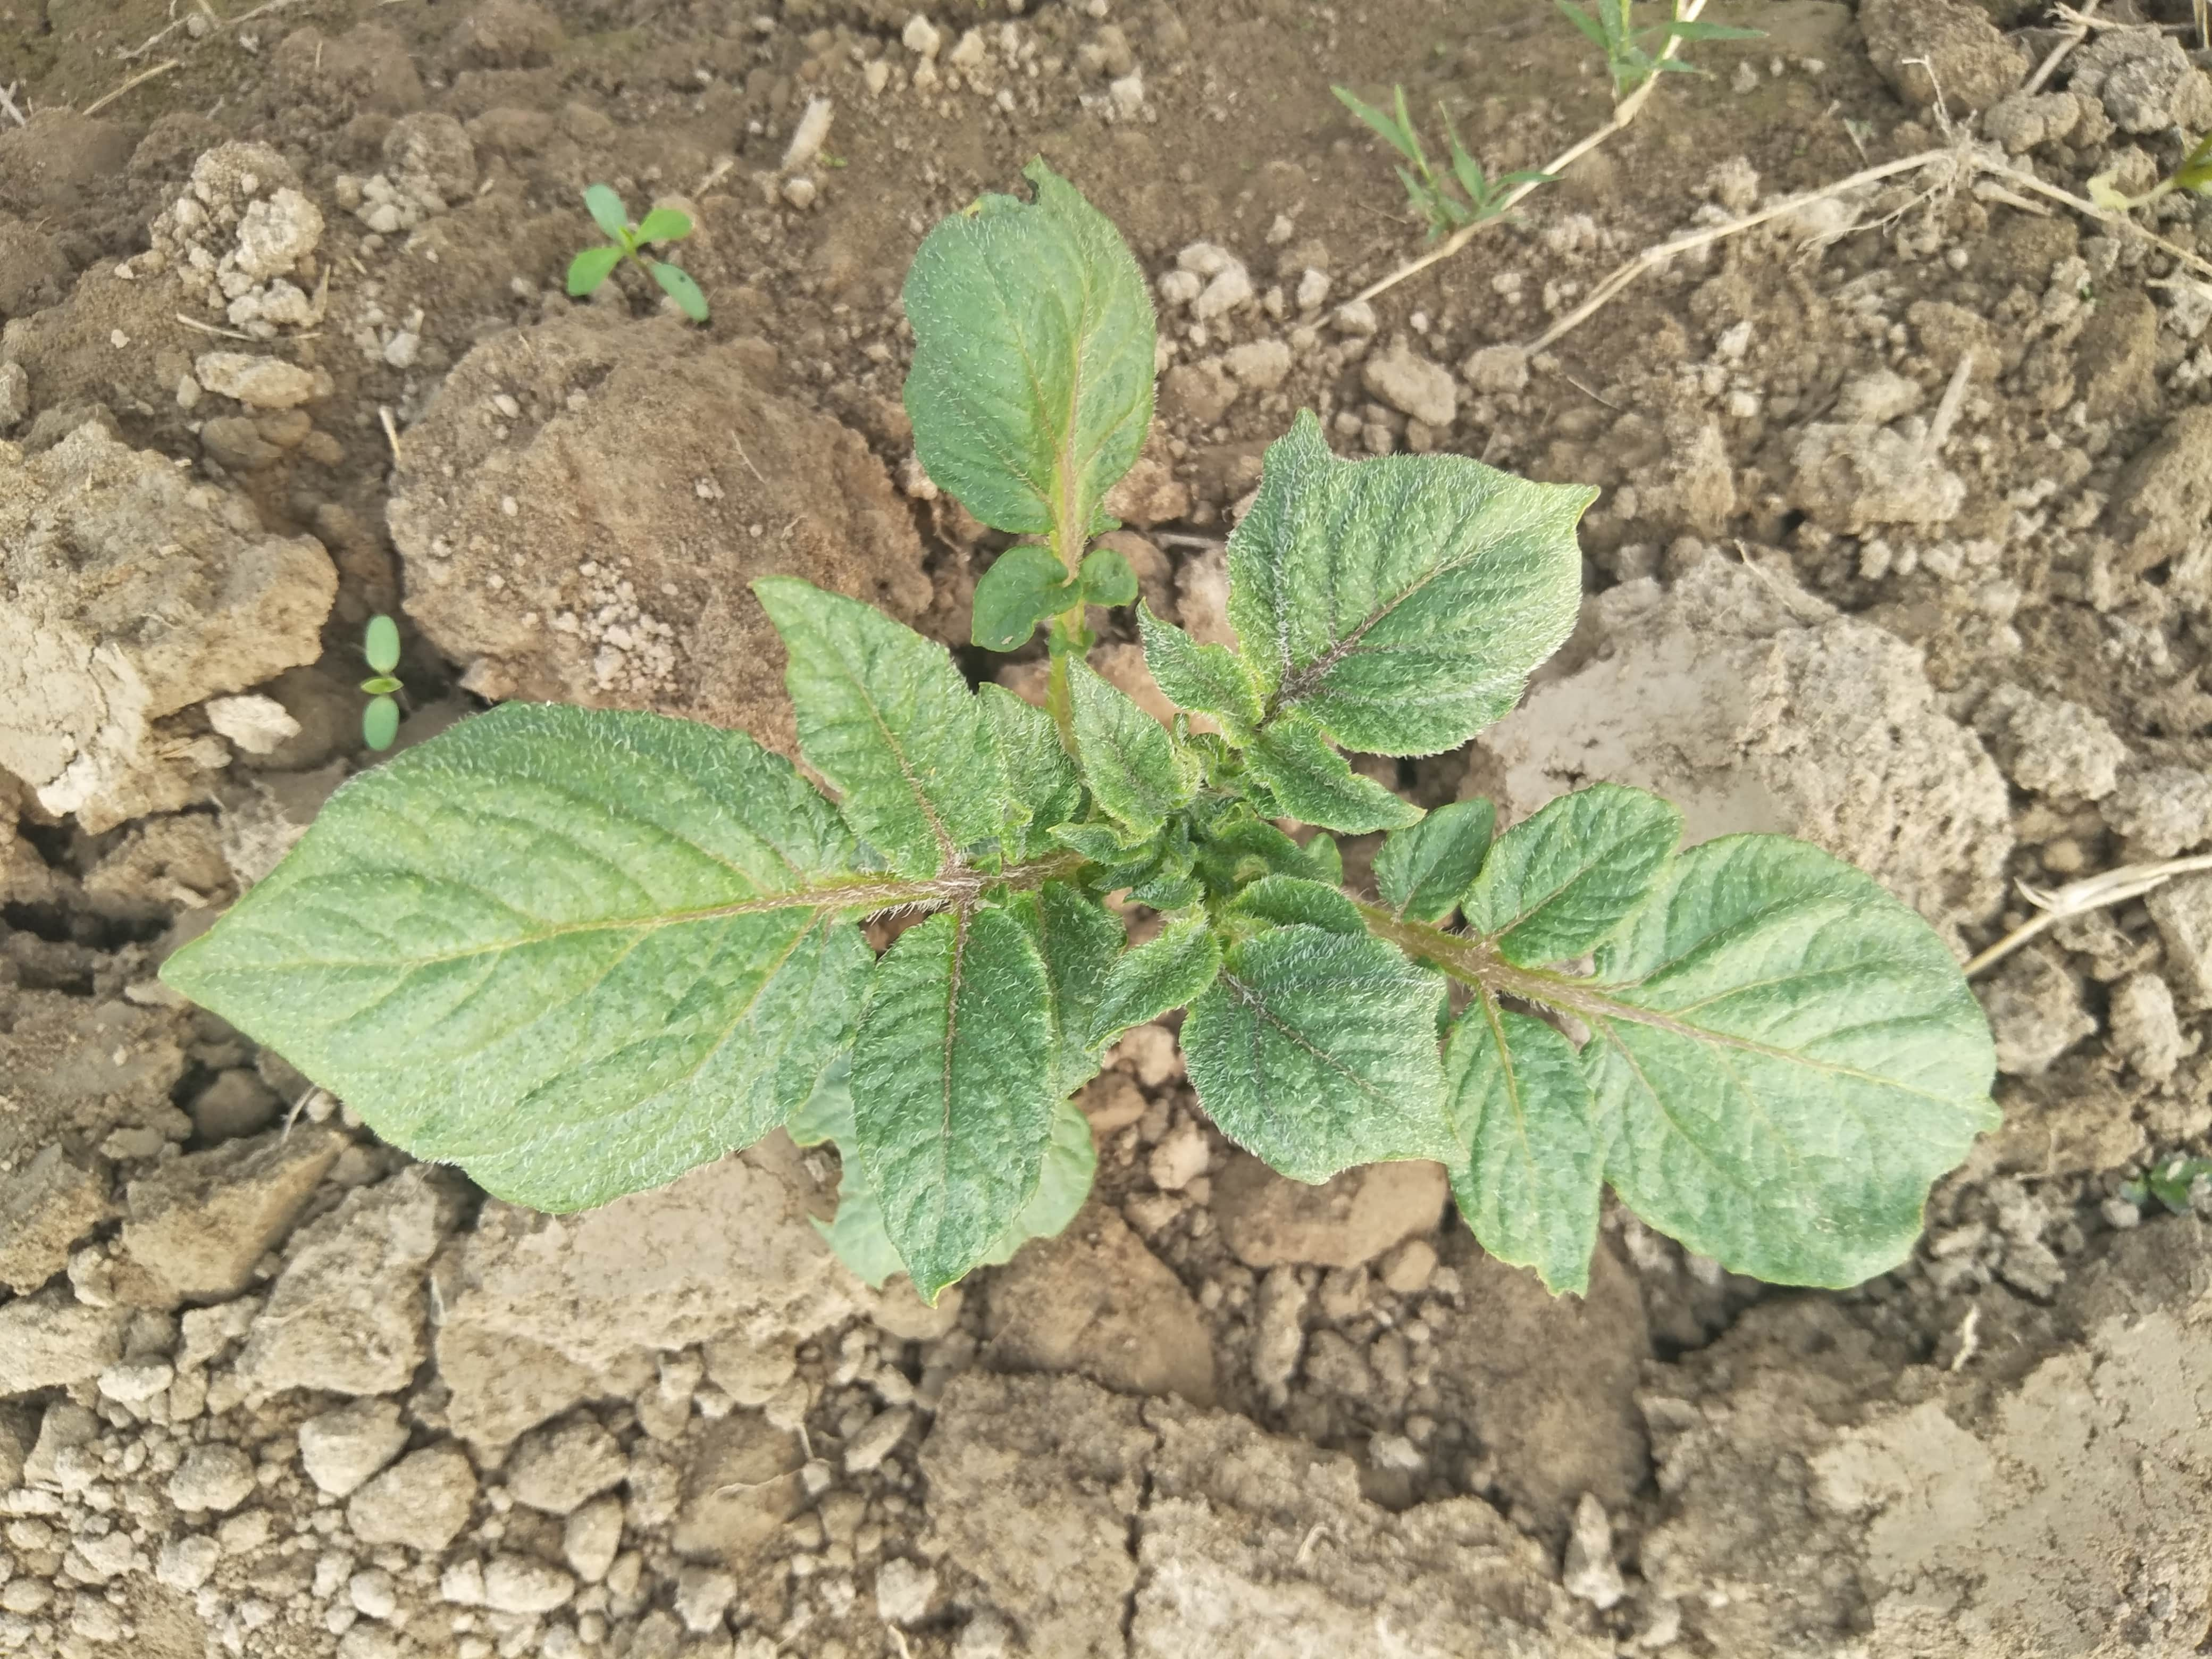daun: (160, 711, 852, 1180), (1618, 840, 1982, 1286), (1258, 436, 1592, 741), (911, 195, 1155, 542), (848, 906, 1062, 1286), (756, 579, 1010, 878), (1158, 948, 1453, 1173), (1423, 1004, 1611, 1286), (1446, 789, 1681, 965), (1054, 648, 1202, 836), (1231, 727, 1420, 836), (977, 549, 1129, 650), (1386, 767, 1489, 911), (1096, 915, 1217, 1025), (1231, 877, 1371, 948)
